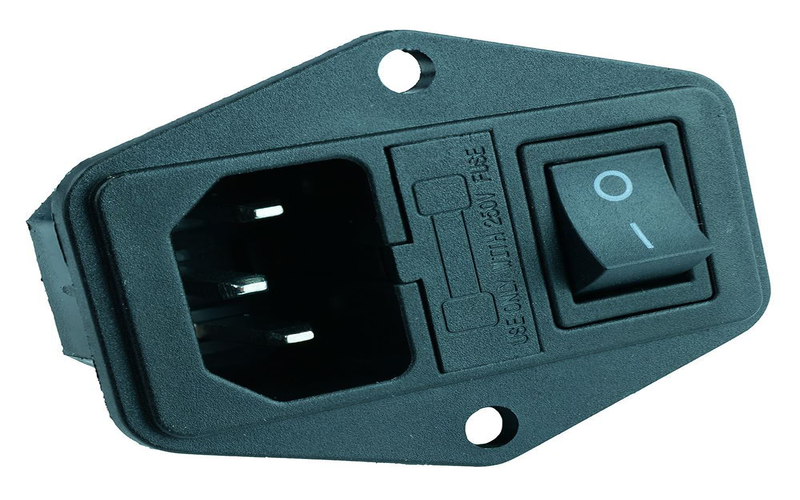Switches: (152, 110, 735, 415)
